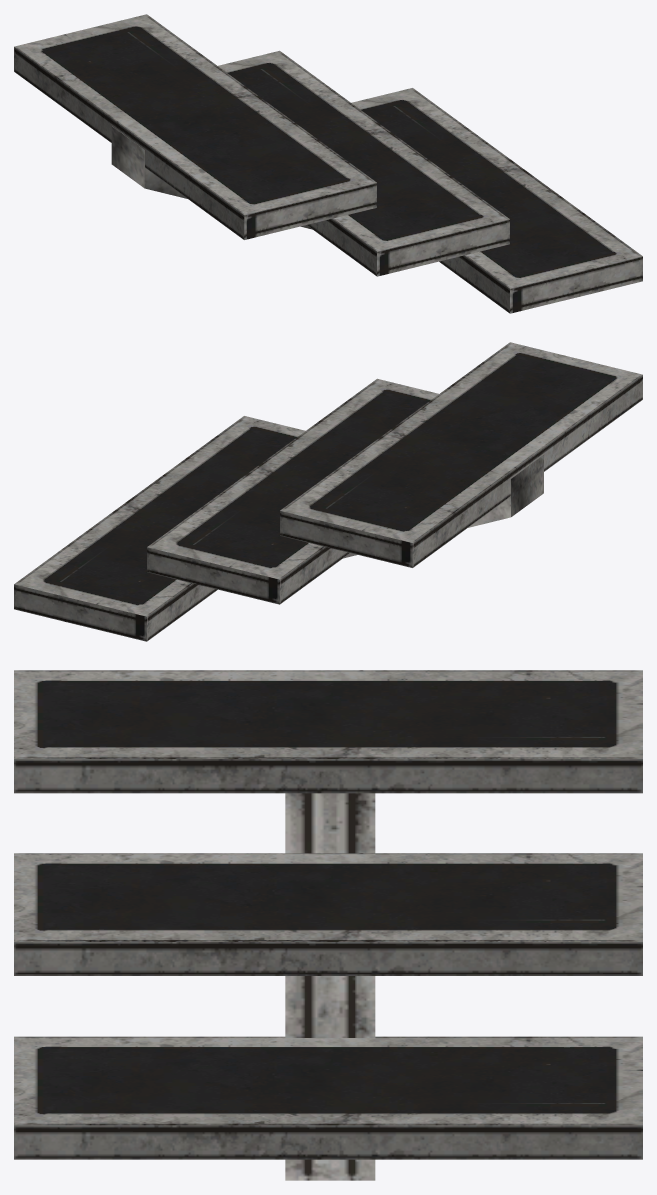
Rendered from SM_stair_half.fbx.
3 renders of one model, top to bottom at view 1: azimuth 30°, elevation 25°; view 2: azimuth 150°, elevation 25°; view 3: azimuth 270°, elevation 25°, orthographic. The views are drawn at different scales.
Visible parts, largest first — view 1: stair_Corners_Mesh3; view 2: stair_Corners_Mesh3; view 3: stair_Corners_Mesh3.
Boxes of the visible parts, x1,y1,x2,y2 form: stair_Corners_Mesh3: (14,14,642,313); stair_Corners_Mesh3: (14,342,642,641); stair_Corners_Mesh3: (14,670,642,1180).
Bounding box in the file's own units: 1 × 0.4568 × 1.
